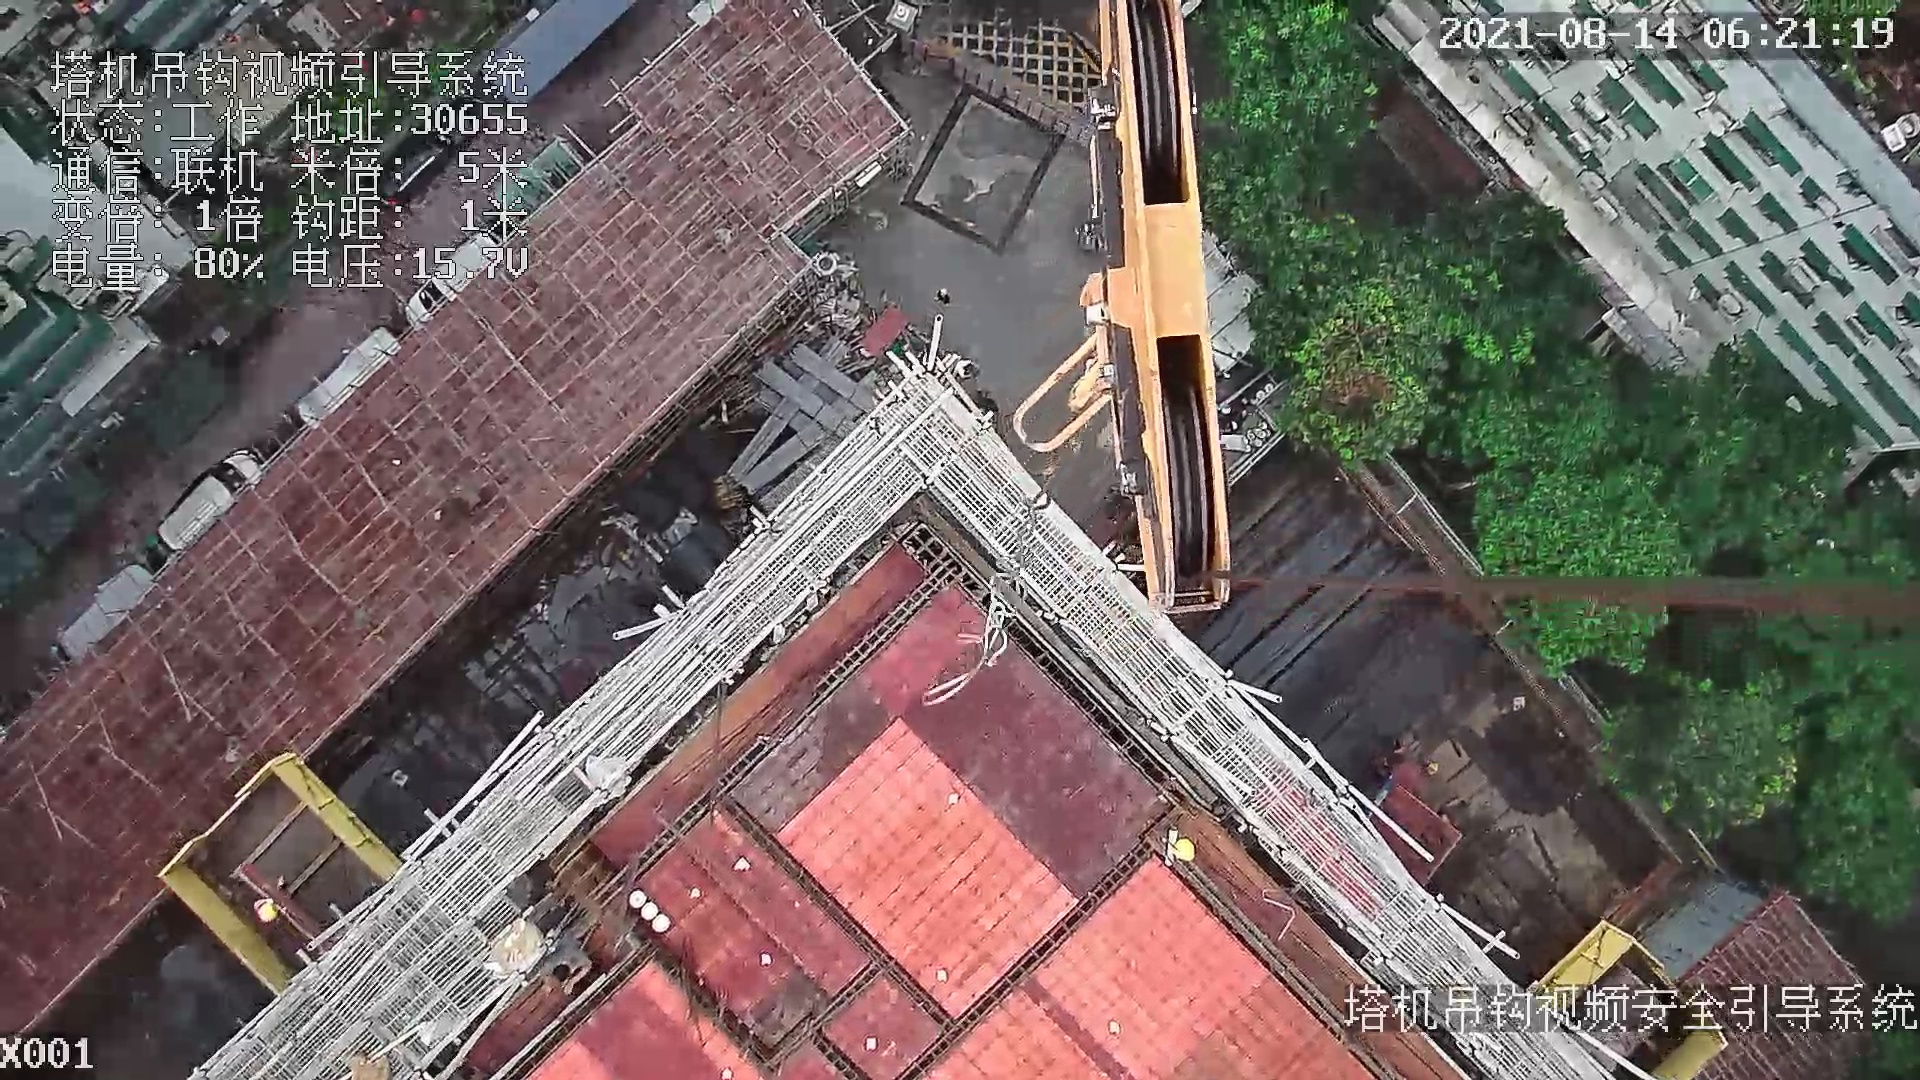helmet: (1174, 837, 1197, 862)
hook: (1050, 1, 1232, 608)
